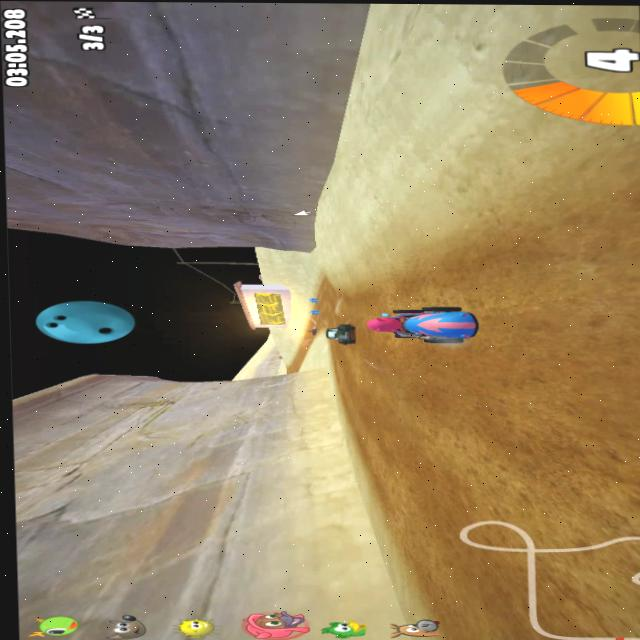bonus: (304, 307, 318, 315), (307, 297, 317, 303)
enemy_kart: (319, 318, 360, 343)
player_kart: (357, 302, 496, 347)
